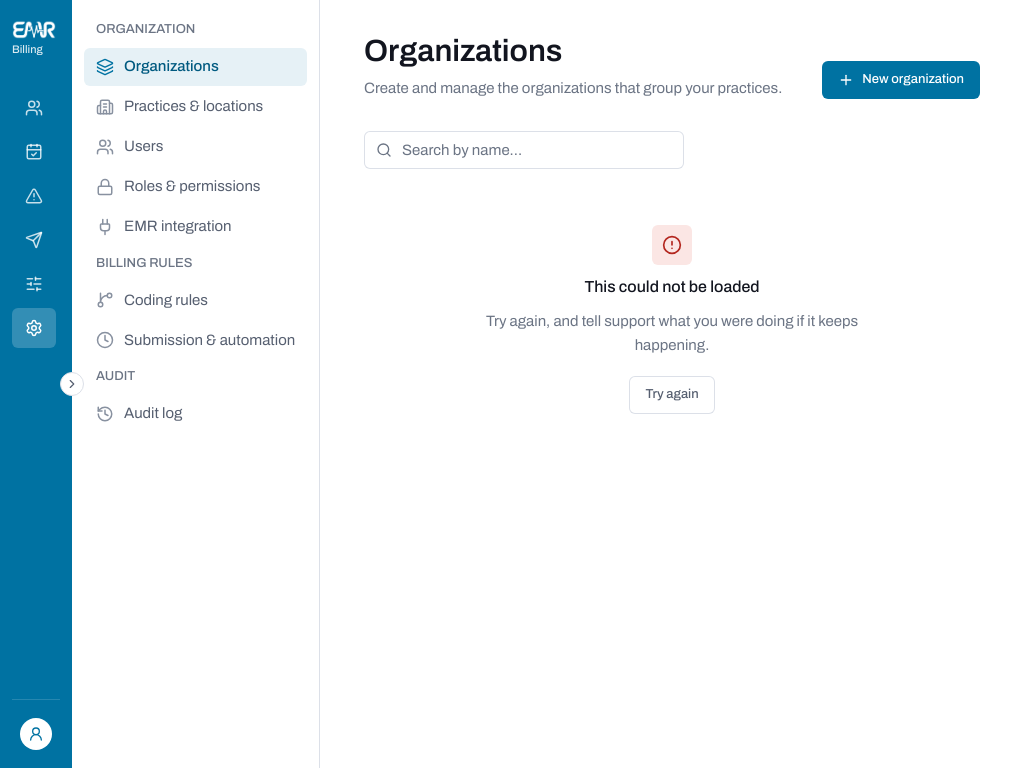
Admin → Organizations › shows a failed load and retries it
The image size is (1024, 768).
Click the button "Try again". click: (672, 395)
box: [629,376,715,414]
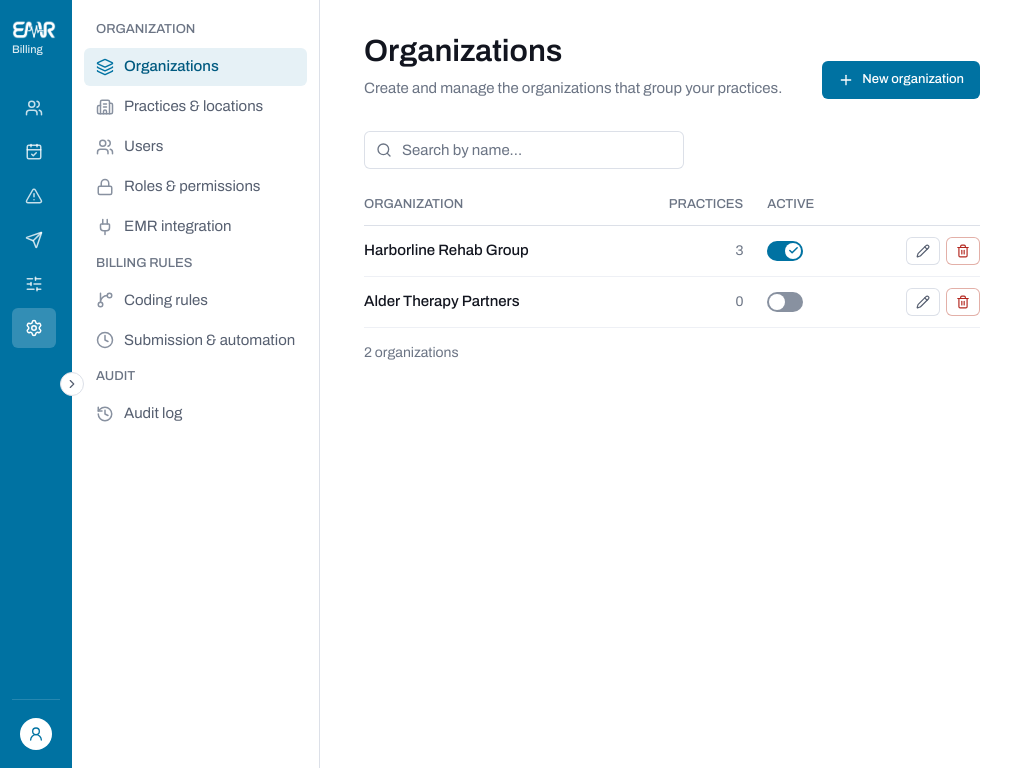
Expected: the text "Harborline Rehab Group" is shown, [364,242,529,258]
